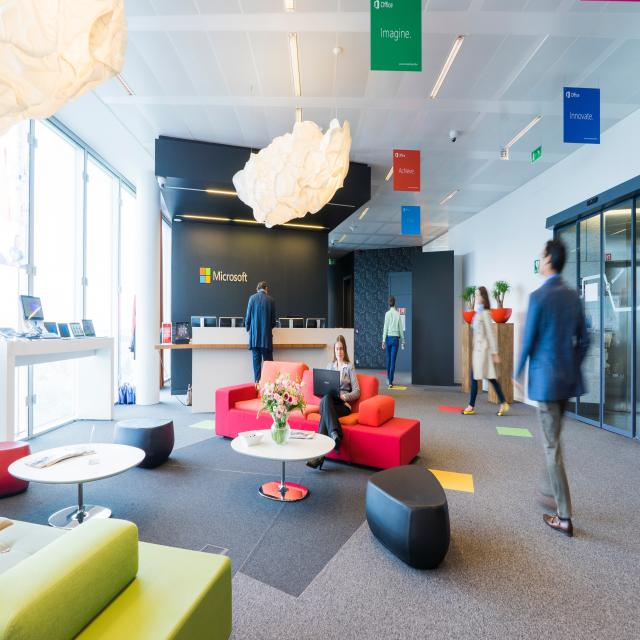floor: (24, 368, 640, 640)
wall: (448, 108, 640, 378), (171, 221, 328, 341), (52, 90, 155, 188), (354, 246, 422, 370), (135, 172, 161, 405), (411, 250, 454, 387), (155, 136, 251, 183), (328, 250, 354, 328), (334, 161, 371, 199), (454, 255, 463, 383)
